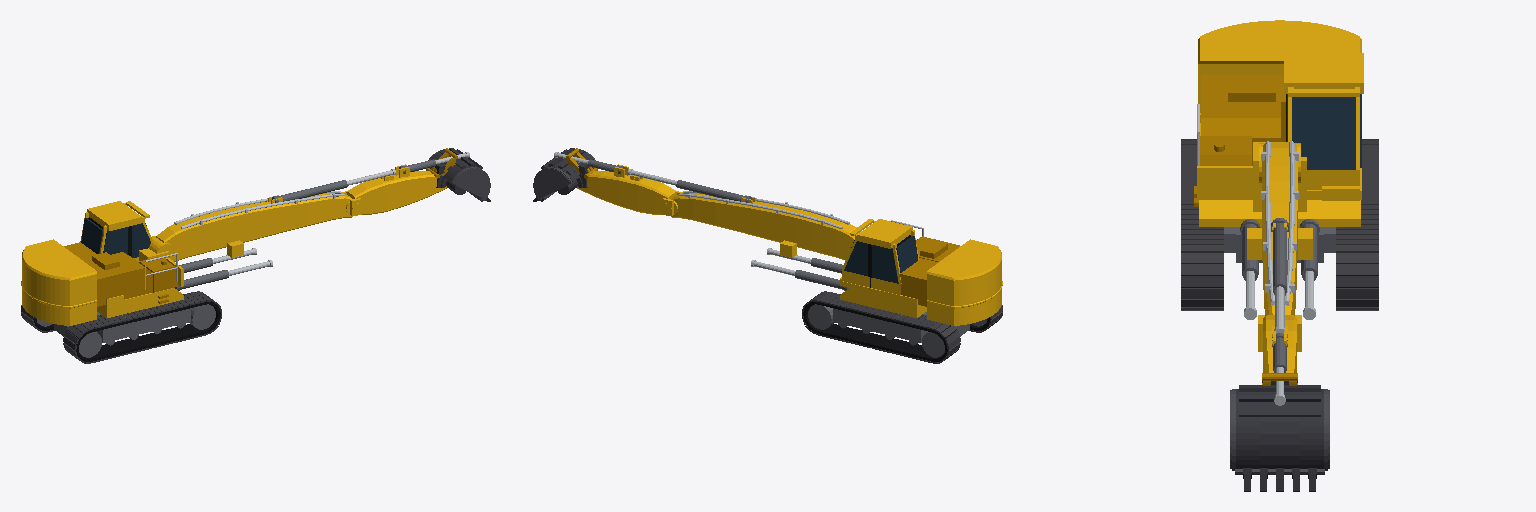
URDF robot description (excavator_20t):
<?xml version="1.0"?>
<!--
  20 t 级履带式液压挖掘机运动学模型（rviz 教学/演示用）。

  统一视觉参考：小松 PC210LC-11（20 t 级，与柳工 922 同级），只用来看比例和
  轮廓特征 —— 尾部俯视圆弧、动臂肩部折转、驾驶室前倾风挡。
  外形尺寸来自公开整机参数 + 参考照片上的"脚销→臂头"弦归一化量测
  （履带长 4.45 m、履带板宽 0.60 m、轨距 2.20 m、驾驶室顶约 2.96 m、
  尾部回转半径约 2.75 m、动臂 5.70 m、斗杆 2.95 m、铲斗宽 1.24 m 五齿）。
  **这些是归一化估计值，不是 OEM 实测；也不是柳工 922 的测绘复刻**，
  别拿它做干涉校核。几何参数表见 excavator_sim/design.py。

  坐标约定：base_link 在地面中心，x 朝前，y 朝左，z 朝上。

  关节约定（正方向）：
    swing_joint   绕 z，俯视逆时针
    boom_joint    绕 y，动臂下压
    arm_joint     绕 y，斗杆向机器侧收
    bucket_joint  绕 y，卸料张开（负 = 收斗）
    h_link_joint  绕 y，H-link 三角板（被动，挂在 arm_link 上）
    dogbone_joint 绕 y，dogbone 连杆（被动，挂在 bucket_link 上）
  后两个是铲斗四连杆的被动关节，角度由 excavator_sim.cylinders.solve()
  按 bucket_joint 闭式反解，每帧随 /joint_states 发布。

  几何全部是 urdf/meshes/ 下的 OBJ，由 tools/gen_meshes.py 程序化生成
  （轮廓挤出 + 回转体，没有一处是方盒子拼的），整机 4 062 顶点 / 7 296 三角面。

  两条结构约束，改模型时必须守住：
  1) rviz 的 RobotModel 对每个 link 只取**第一个** visual 的材质，
     所以一个 link 只能有一种颜色，多色部件靠 fixed joint 拆成独立 link。
  2) 三组油缸都是"缸筒 revolute 铰在上一级 + 活塞杆 prismatic 滑出"的两段式，
     anim_node.py 每帧按铰点几何算出 pivot 角和伸缩量一起发布。
     **铰点/缸筒长/杆长/限位全部由 excavator_sim/design.py 的 CYLINDERS 导出**
     （`python -m excavator_sim.cylinders` 会打印可直接抄进来的 limit），
     tools/validate_kinematics.py 校验 URDF 与它一致。
-->
<robot name="excavator_20t">

  <material name="machine_yellow">
    <color rgba="0.93 0.72 0.10 1.0"/>
  </material>
  <material name="machine_yellow_dark">
    <color rgba="0.72 0.53 0.05 1.0"/>
  </material>
  <material name="track_dark">
    <color rgba="0.12 0.12 0.13 1.0"/>
  </material>
  <material name="track_shoe">
    <color rgba="0.30 0.30 0.32 1.0"/>
  </material>
  <material name="steel_mid">
    <color rgba="0.42 0.43 0.46 1.0"/>
  </material>
  <material name="steel_light">
    <color rgba="0.74 0.76 0.78 1.0"/>
  </material>
  <!-- 深蓝灰玻璃。上一版是 (0.07 0.13 0.20)，比背景还暗，正交渲染下就是
       一块纯黑平面 —— 3/4 视看驾驶室像开了个洞。真机玻璃是带蓝绿的深色，
       会反天空，既暗于车身又不至于全黑。 -->
  <material name="cab_glass">
    <color rgba="0.16 0.24 0.30 1.0"/>
  </material>
  <!-- 斗壳压暗到 0.27：参考照片里斗背是磨损的近黑钢，不是中灰。
       上一版 0.32 与侧板用的 track_shoe(0.30) 几乎同值 —— 正交渲染没有
       环境光遮蔽，两片同色相邻面直接糊成一整块，D 形侧板完全读不出来。 -->
  <material name="bucket_steel">
    <color rgba="0.27 0.27 0.30 1.0"/>
  </material>
  <!-- 斗齿：磨损高锰钢，比斗壳更黑。上一版复用 steel_light(0.74)，侧视里
       渲染成一根白色尖刺，像悬空的小刀；参考照片里齿是近黑的。 -->
  <material name="bucket_teeth_dark">
    <color rgba="0.22 0.22 0.24 1.0"/>
  </material>
  <!-- 斗侧板：同样磨损钢，比斗壳(0.27)只亮一档。真机侧板和斗壳是同色磨
       损钢，靠焊接棱边和环境光遮蔽分开；正交平光下没有遮蔽，只能靠明度差
       把 D 形侧板从斗壳上剥出来。试过 steel_mid(0.42)：太亮，3/4 视里侧板
       读成一片铝板"鸟嘴"，比斗壳还抢眼。0.34 是能分开又不跳的档位。 -->
  <material name="bucket_side_steel">
    <color rgba="0.34 0.34 0.37 1.0"/>
  </material>

  <!-- ==================== 底盘 / 履带 ==================== -->

  <link name="base_link">
    <visual>
      <origin xyz="0 0 0" rpy="0 0 0"/>
      <geometry>
        <mesh filename="package://excavator_sim/urdf/meshes/base_frame.obj"/>
      </geometry>
      <material name="steel_mid"/>
    </visual>
  </link>

  <!-- 左履带 -->
  <joint name="track_left_joint" type="fixed">
    <parent link="base_link"/>
    <child link="track_left_link"/>
    <origin xyz="0 1.10 0" rpy="0 0 0"/>
  </joint>
  <link name="track_left_link">
    <visual>
      <origin xyz="0 0 0" rpy="0 0 0"/>
      <geometry>
        <mesh filename="package://excavator_sim/urdf/meshes/track_belt.obj"/>
      </geometry>
      <material name="track_dark"/>
    </visual>
  </link>

  <joint name="track_left_shoe_joint" type="fixed">
    <parent link="track_left_link"/>
    <child link="track_left_shoe_link"/>
    <origin xyz="0 0 0" rpy="0 0 0"/>
  </joint>
  <link name="track_left_shoe_link">
    <visual>
      <origin xyz="0 0 0" rpy="0 0 0"/>
      <geometry>
        <mesh filename="package://excavator_sim/urdf/meshes/track_shoe.obj"/>
      </geometry>
      <material name="track_shoe"/>
    </visual>
  </link>

  <joint name="track_left_wheel_joint" type="fixed">
    <parent link="track_left_link"/>
    <child link="track_left_wheel_link"/>
    <origin xyz="0 0 0" rpy="0 0 0"/>
  </joint>
  <link name="track_left_wheel_link">
    <visual>
      <origin xyz="0 0 0" rpy="0 0 0"/>
      <geometry>
        <mesh filename="package://excavator_sim/urdf/meshes/track_wheel.obj"/>
      </geometry>
      <material name="steel_mid"/>
    </visual>
  </link>

  <!-- 右履带 -->
  <joint name="track_right_joint" type="fixed">
    <parent link="base_link"/>
    <child link="track_right_link"/>
    <origin xyz="0 -1.10 0" rpy="0 0 0"/>
  </joint>
  <link name="track_right_link">
    <visual>
      <origin xyz="0 0 0" rpy="0 0 0"/>
      <geometry>
        <mesh filename="package://excavator_sim/urdf/meshes/track_belt.obj"/>
      </geometry>
      <material name="track_dark"/>
    </visual>
  </link>

  <joint name="track_right_shoe_joint" type="fixed">
    <parent link="track_right_link"/>
    <child link="track_right_shoe_link"/>
    <origin xyz="0 0 0" rpy="0 0 0"/>
  </joint>
  <link name="track_right_shoe_link">
    <visual>
      <origin xyz="0 0 0" rpy="0 0 0"/>
      <geometry>
        <mesh filename="package://excavator_sim/urdf/meshes/track_shoe.obj"/>
      </geometry>
      <material name="track_shoe"/>
    </visual>
  </link>

  <joint name="track_right_wheel_joint" type="fixed">
    <parent link="track_right_link"/>
    <child link="track_right_wheel_link"/>
    <origin xyz="0 0 0" rpy="0 0 0"/>
  </joint>
  <link name="track_right_wheel_link">
    <visual>
      <origin xyz="0 0 0" rpy="0 0 0"/>
      <geometry>
        <mesh filename="package://excavator_sim/urdf/meshes/track_wheel.obj"/>
      </geometry>
      <material name="steel_mid"/>
    </visual>
  </link>

  <!-- ==================== 上车（回转体） ==================== -->

  <joint name="swing_joint" type="revolute">
    <parent link="base_link"/>
    <child link="house_link"/>
    <origin xyz="0 0 0.98" rpy="0 0 0"/>
    <axis xyz="0 0 1"/>
    <limit lower="-3.1416" upper="3.1416" effort="1000" velocity="1.2"/>
  </joint>

  <!-- 上车平台（含动臂铰点耳座、工作灯座） -->
  <link name="house_link">
    <visual>
      <origin xyz="0 0 0" rpy="0 0 0"/>
      <geometry>
        <mesh filename="package://excavator_sim/urdf/meshes/house_deck.obj"/>
      </geometry>
      <material name="machine_yellow"/>
    </visual>
  </link>

  <joint name="house_engine_joint" type="fixed">
    <parent link="house_link"/>
    <child link="house_engine_link"/>
    <origin xyz="0 0 0" rpy="0 0 0"/>
  </joint>
  <link name="house_engine_link">
    <visual>
      <origin xyz="0 0 0" rpy="0 0 0"/>
      <geometry>
        <mesh filename="package://excavator_sim/urdf/meshes/house_engine.obj"/>
      </geometry>
      <material name="machine_yellow_dark"/>
    </visual>
  </link>

  <joint name="counterweight_joint" type="fixed">
    <parent link="house_link"/>
    <child link="counterweight_link"/>
    <origin xyz="0 0 0" rpy="0 0 0"/>
  </joint>
  <link name="counterweight_link">
    <visual>
      <origin xyz="0 0 0" rpy="0 0 0"/>
      <geometry>
        <mesh filename="package://excavator_sim/urdf/meshes/counterweight.obj"/>
      </geometry>
      <material name="machine_yellow"/>
    </visual>
  </link>

  <joint name="cab_frame_joint" type="fixed">
    <parent link="house_link"/>
    <child link="cab_frame_link"/>
    <origin xyz="0 0 0" rpy="0 0 0"/>
  </joint>
  <link name="cab_frame_link">
    <visual>
      <origin xyz="0 0 0" rpy="0 0 0"/>
      <geometry>
        <mesh filename="package://excavator_sim/urdf/meshes/cab_frame.obj"/>
      </geometry>
      <material name="machine_yellow"/>
    </visual>
  </link>

  <joint name="cab_glass_joint" type="fixed">
    <parent link="house_link"/>
    <child link="cab_glass_link"/>
    <origin xyz="0 0 0" rpy="0 0 0"/>
  </joint>
  <link name="cab_glass_link">
    <visual>
      <origin xyz="0 0 0" rpy="0 0 0"/>
      <geometry>
        <mesh filename="package://excavator_sim/urdf/meshes/cab_glass.obj"/>
      </geometry>
      <material name="cab_glass"/>
    </visual>
  </link>

  <joint name="cab_trim_joint" type="fixed">
    <parent link="house_link"/>
    <child link="cab_trim_link"/>
    <origin xyz="0 0 0" rpy="0 0 0"/>
  </joint>
  <link name="cab_trim_link">
    <visual>
      <origin xyz="0 0 0" rpy="0 0 0"/>
      <geometry>
        <mesh filename="package://excavator_sim/urdf/meshes/cab_trim.obj"/>
      </geometry>
      <material name="track_dark"/>
    </visual>
  </link>

  <joint name="handrail_joint" type="fixed">
    <parent link="house_link"/>
    <child link="handrail_link"/>
    <origin xyz="0 0 0" rpy="0 0 0"/>
  </joint>
  <link name="handrail_link">
    <visual>
      <origin xyz="0 0 0" rpy="0 0 0"/>
      <geometry>
        <mesh filename="package://excavator_sim/urdf/meshes/handrail.obj"/>
      </geometry>
      <material name="steel_light"/>
    </visual>
  </link>

  <!-- ==================== 动臂 ==================== -->

  <joint name="boom_joint" type="revolute">
    <parent link="house_link"/>
    <child link="boom_link"/>
    <origin xyz="1.15 0 1.02" rpy="0 0 0"/>
    <axis xyz="0 1 0"/>
    <limit lower="-1.15" upper="0.36" effort="2000" velocity="0.7"/>
  </joint>

  <link name="boom_link">
    <visual>
      <origin xyz="0 0 0" rpy="0 0 0"/>
      <geometry>
        <mesh filename="package://excavator_sim/urdf/meshes/boom.obj"/>
      </geometry>
      <material name="machine_yellow"/>
    </visual>
  </link>

  <joint name="boom_pipe_joint" type="fixed">
    <parent link="boom_link"/>
    <child link="boom_pipe_link"/>
    <origin xyz="0 0 0" rpy="0 0 0"/>
  </joint>
  <link name="boom_pipe_link">
    <visual>
      <origin xyz="0 0 0" rpy="0 0 0"/>
      <geometry>
        <mesh filename="package://excavator_sim/urdf/meshes/boom_pipe.obj"/>
      </geometry>
      <material name="steel_light"/>
    </visual>
  </link>

  <!-- 动臂油缸：缸筒铰在上车鼻锥 A=(1.40, 0.10)，活塞杆沿缸筒 +x 滑出。
       slide origin = 缸筒长 1.52；barrel+rod = 2.805 = Lmax ⇒ 位移 = L − Lmax。
       limit / velocity 由 cylinders.py 在全关节行程上密采样导出，别手改。 -->
  <joint name="boom_cyl_pivot_joint" type="revolute">
    <parent link="house_link"/>
    <child link="boom_cyl_link"/>
    <origin xyz="1.40 0 0.10" rpy="0 0 0"/>
    <axis xyz="0 1 0"/>
    <limit lower="-1.2786" upper="0.0730" effort="0" velocity="0.84"/>
  </joint>
  <link name="boom_cyl_link">
    <visual>
      <origin xyz="0 0 0" rpy="0 0 0"/>
      <geometry>
        <mesh filename="package://excavator_sim/urdf/meshes/boom_cyl_barrel.obj"/>
      </geometry>
      <material name="steel_mid"/>
    </visual>
  </link>

  <joint name="boom_cyl_slide_joint" type="prismatic">
    <parent link="boom_cyl_link"/>
    <child link="boom_cyl_rod_link"/>
    <origin xyz="1.52 0 0" rpy="0 0 0"/>
    <axis xyz="1 0 0"/>
    <limit lower="-1.2699" upper="0.0200" effort="0" velocity="0.67"/>
  </joint>
  <link name="boom_cyl_rod_link">
    <visual>
      <origin xyz="0 0 0" rpy="0 0 0"/>
      <geometry>
        <mesh filename="package://excavator_sim/urdf/meshes/boom_cyl_rod.obj"/>
      </geometry>
      <material name="steel_light"/>
    </visual>
  </link>

  <!-- ==================== 斗杆 ==================== -->

  <joint name="arm_joint" type="revolute">
    <parent link="boom_link"/>
    <child link="arm_link"/>
    <origin xyz="5.70 0 0" rpy="0 0 0"/>
    <axis xyz="0 1 0"/>
    <limit lower="-0.35" upper="2.60" effort="1500" velocity="1.2"/>
  </joint>

  <link name="arm_link">
    <visual>
      <origin xyz="0 0 0" rpy="0 0 0"/>
      <geometry>
        <mesh filename="package://excavator_sim/urdf/meshes/arm.obj"/>
      </geometry>
      <material name="machine_yellow"/>
    </visual>
  </link>

  <!-- 斗杆油缸：缸筒铰在动臂上缘立耳板 A=(3.45, 0.60)，缸筒长 2.10，
       barrel+rod = 3.53 = Lmax。 -->
  <joint name="arm_cyl_pivot_joint" type="revolute">
    <parent link="boom_link"/>
    <child link="arm_cyl_link"/>
    <origin xyz="3.45 0 0.60" rpy="0 0 0"/>
    <axis xyz="0 1 0"/>
    <limit lower="-0.0869" upper="0.8108" effort="0" velocity="0.41"/>
  </joint>
  <link name="arm_cyl_link">
    <visual>
      <origin xyz="0 0 0" rpy="0 0 0"/>
      <geometry>
        <mesh filename="package://excavator_sim/urdf/meshes/arm_cyl_barrel.obj"/>
      </geometry>
      <material name="steel_mid"/>
    </visual>
  </link>

  <joint name="arm_cyl_slide_joint" type="prismatic">
    <parent link="arm_cyl_link"/>
    <child link="arm_cyl_rod_link"/>
    <origin xyz="2.10 0 0" rpy="0 0 0"/>
    <axis xyz="1 0 0"/>
    <limit lower="-1.3589" upper="0.0200" effort="0" velocity="1.42"/>
  </joint>
  <link name="arm_cyl_rod_link">
    <visual>
      <origin xyz="0 0 0" rpy="0 0 0"/>
      <geometry>
        <mesh filename="package://excavator_sim/urdf/meshes/arm_cyl_rod.obj"/>
      </geometry>
      <material name="steel_light"/>
    </visual>
  </link>

  <!-- ==================== 铲斗 ==================== -->

  <joint name="bucket_joint" type="revolute">
    <parent link="arm_link"/>
    <child link="bucket_link"/>
    <origin xyz="2.95 0 0" rpy="0 0 0"/>
    <axis xyz="0 1 0"/>
    <limit lower="-1.10" upper="1.20" effort="1200" velocity="1.8"/>
  </joint>

  <link name="bucket_link">
    <visual>
      <origin xyz="0 0 0" rpy="0 0 0"/>
      <geometry>
        <mesh filename="package://excavator_sim/urdf/meshes/bucket.obj"/>
      </geometry>
      <material name="bucket_steel"/>
    </visual>
  </link>

  <joint name="bucket_side_joint" type="fixed">
    <parent link="bucket_link"/>
    <child link="bucket_side_link"/>
    <origin xyz="0 0 0" rpy="0 0 0"/>
  </joint>
  <link name="bucket_side_link">
    <visual>
      <origin xyz="0 0 0" rpy="0 0 0"/>
      <geometry>
        <mesh filename="package://excavator_sim/urdf/meshes/bucket_side.obj"/>
      </geometry>
      <material name="bucket_side_steel"/>
    </visual>
  </link>

  <joint name="bucket_teeth_joint" type="fixed">
    <parent link="bucket_link"/>
    <child link="bucket_teeth_link"/>
    <origin xyz="0 0 0" rpy="0 0 0"/>
  </joint>
  <link name="bucket_teeth_link">
    <visual>
      <origin xyz="0 0 0" rpy="0 0 0"/>
      <geometry>
        <mesh filename="package://excavator_sim/urdf/meshes/bucket_teeth.obj"/>
      </geometry>
      <material name="bucket_teeth_dark"/>
    </visual>
  </link>

  <!-- ============ 铲斗四连杆：H-link 三角板 + dogbone ============ -->
  <!-- URDF 是树、环不能闭合，所以这里把环拆成两条支路：
         H-link 挂 arm_link 子关节，dogbone 挂 bucket_link 子关节，
       两个被动关节角由 excavator_sim.cylinders.solve 每帧反解发布，
       环在运动学上始终闭合。铲斗缸的杆端销（P1）是 H-link 上的点，
       所以 bucket_cyl 的 pivot 关节挂在 arm_link、平移行程由 P1 决定。

       限位来自 bucket_joint 全行程 4001 帧密采样实测 + 0.02 rad 余量；
       速度 = bucket 限速 1.8 × 该关节实测最大摆速比（h 1.789 / d 0.836）。
       改 bucket_joint 限位必须重跑 `python -m excavator_sim.cylinders`。 -->
  <joint name="h_link_joint" type="revolute">
    <parent link="arm_link"/>
    <child link="h_link_link"/>
    <origin xyz="2.98 0 0.26" rpy="0 0 0"/>
    <axis xyz="0 1 0"/>
    <limit lower="1.8791" upper="4.5557" effort="0" velocity="3.4"/>
  </joint>
  <link name="h_link_link">
    <visual>
      <origin xyz="0 0 0" rpy="0 0 0"/>
      <geometry>
        <mesh filename="package://excavator_sim/urdf/meshes/h_link.obj"/>
      </geometry>
      <material name="machine_yellow_dark"/>
    </visual>
  </link>

  <joint name="dogbone_joint" type="revolute">
    <parent link="bucket_link"/>
    <child link="dogbone_link"/>
    <origin xyz="-0.34415 0 0.49149" rpy="0 0 0"/>
    <axis xyz="0 1 0"/>
    <limit lower="1.3944" upper="2.5667" effort="0" velocity="1.6"/>
  </joint>
  <link name="dogbone_link">
    <visual>
      <origin xyz="0 0 0" rpy="0 0 0"/>
      <geometry>
        <mesh filename="package://excavator_sim/urdf/meshes/dogbone.obj"/>
      </geometry>
      <material name="machine_yellow_dark"/>
    </visual>
  </link>

  <!-- 铲斗油缸：缸筒铰在斗杆上表面耳板 A=(1.55, 0.58)，缸筒长 0.95，
       barrel+rod = 1.94 = Lmax。杆端不直接挂斗，挂 H-link 的 P1。
       限位与速度由 4001 帧密采样得出（psi ±9.79°、行程 0.889 m），
       不是沿用上一版直连方案的值。 -->
  <joint name="bucket_cyl_pivot_joint" type="revolute">
    <parent link="arm_link"/>
    <child link="bucket_cyl_link"/>
    <origin xyz="1.55 0 0.58" rpy="0 0 0"/>
    <axis xyz="0 1 0"/>
    <limit lower="-0.1190" upper="0.1909" effort="0" velocity="0.70"/>
  </joint>
  <link name="bucket_cyl_link">
    <visual>
      <origin xyz="0 0 0" rpy="0 0 0"/>
      <geometry>
        <mesh filename="package://excavator_sim/urdf/meshes/bucket_cyl_barrel.obj"/>
      </geometry>
      <material name="steel_mid"/>
    </visual>
  </link>

  <joint name="bucket_cyl_slide_joint" type="prismatic">
    <parent link="bucket_cyl_link"/>
    <child link="bucket_cyl_rod_link"/>
    <origin xyz="0.95 0 0" rpy="0 0 0"/>
    <axis xyz="1 0 0"/>
    <limit lower="-0.9507" upper="0.0200" effort="0" velocity="1.35"/>
  </joint>
  <link name="bucket_cyl_rod_link">
    <visual>
      <origin xyz="0 0 0" rpy="0 0 0"/>
      <geometry>
        <mesh filename="package://excavator_sim/urdf/meshes/bucket_cyl_rod.obj"/>
      </geometry>
      <material name="steel_light"/>
    </visual>
  </link>

</robot>

--- What the picture shows (computed from the rendered views, not written in the file) ---
3 views of the same robot in one strip: view 1: azimuth 30°, elevation 25°; view 2: azimuth 150°, elevation 25°; view 3: azimuth 270°, elevation 25° (orthographic).
Robot: excavator_20t — 28 links, 27 joints (9 revolute, 3 prismatic, 15 fixed); root link base_link; default pose: all joints at 0 but 2 set to mid-range because 0 is outside their limits (h_link_joint = 3.22, dogbone_joint = 1.98).
Links seen in each view (by area): view 1: boom_link, counterweight_link, house_engine_link, arm_link, track_right_wheel_link, track_right_link, track_right_shoe_link, house_link, cab_glass_link, cab_frame_link, bucket_link, bucket_side_link (+3 smaller); view 2: boom_link, counterweight_link, arm_link, cab_frame_link, track_left_wheel_link, track_left_link, cab_glass_link, track_left_shoe_link, house_engine_link, house_link, bucket_link, bucket_side_link (+3 smaller); view 3: bucket_link, house_engine_link, counterweight_link, house_link, cab_frame_link, track_left_shoe_link, track_right_shoe_link, cab_glass_link, boom_link, boom_pipe_link, arm_link, bucket_side_link (+5 smaller).
Link boxes in pixels (x1=…): boom_link: x1=149, y1=193, x2=352, y2=261; counterweight_link: x1=21, y1=239, x2=96, y2=325; house_engine_link: x1=64, y1=242, x2=177, y2=306; arm_link: x1=341, y1=164, x2=446, y2=216; track_right_wheel_link: x1=79, y1=304, x2=215, y2=357; track_right_link: x1=68, y1=301, x2=220, y2=361; track_right_shoe_link: x1=63, y1=291, x2=221, y2=363; house_link: x1=97, y1=248, x2=183, y2=317; cab_glass_link: x1=81, y1=218, x2=150, y2=257; cab_frame_link: x1=80, y1=201, x2=152, y2=261; bucket_link: x1=430, y1=148, x2=483, y2=201; bucket_side_link: x1=428, y1=151, x2=490, y2=200; boom_link: x1=671, y1=193, x2=861, y2=260; counterweight_link: x1=927, y1=239, x2=1002, y2=325; arm_link: x1=577, y1=164, x2=682, y2=216; cab_frame_link: x1=841, y1=219, x2=918, y2=300; track_left_wheel_link: x1=808, y1=304, x2=944, y2=357; track_left_link: x1=803, y1=301, x2=955, y2=361; cab_glass_link: x1=844, y1=236, x2=917, y2=283; track_left_shoe_link: x1=802, y1=291, x2=960, y2=363; house_engine_link: x1=900, y1=236, x2=959, y2=306; house_link: x1=840, y1=277, x2=926, y2=317; bucket_link: x1=540, y1=148, x2=593, y2=201; bucket_side_link: x1=533, y1=151, x2=595, y2=200; bucket_link: x1=1236, y1=381, x2=1323, y2=468; house_engine_link: x1=1194, y1=75, x2=1285, y2=206; counterweight_link: x1=1198, y1=20, x2=1361, y2=122; house_link: x1=1197, y1=123, x2=1360, y2=226; cab_frame_link: x1=1284, y1=53, x2=1363, y2=199; track_left_shoe_link: x1=1336, y1=139, x2=1378, y2=310; track_right_shoe_link: x1=1181, y1=139, x2=1223, y2=310; cab_glass_link: x1=1287, y1=94, x2=1361, y2=169; boom_link: x1=1247, y1=142, x2=1312, y2=315; boom_pipe_link: x1=1261, y1=141, x2=1298, y2=305; arm_link: x1=1258, y1=315, x2=1301, y2=372; bucket_side_link: x1=1230, y1=389, x2=1329, y2=474.
Size in the robot's own frame: 13.52 by 2.82 by 3.05 metres.
Meshes: 25 distinct files referenced, 28 mesh visuals loaded (25 OBJ).
